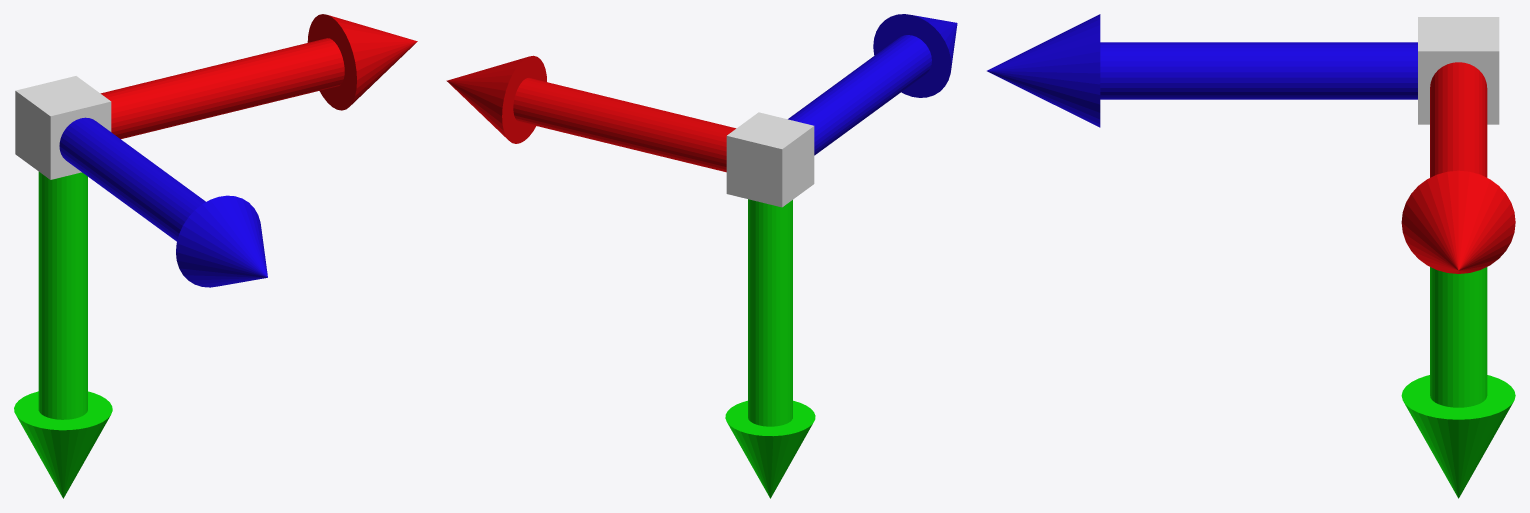
The model's file is gizmo.gltf.
3 renders of one model, left to right at view 1: azimuth 30°, elevation 25°; view 2: azimuth 150°, elevation 25°; view 3: azimuth 270°, elevation 25°, orthographic. The views are drawn at different scales.
Visible parts, largest first — view 1: y, x, z, Cube; view 2: y, x, z, Cube; view 3: z, x, y, Cube.
Part boxes in pixels (x1,y1,x2,y2): y: [14, 172, 112, 498]; x: [100, 14, 417, 138]; z: [59, 117, 267, 287]; Cube: [15, 76, 111, 179]; y: [725, 199, 815, 498]; x: [446, 55, 736, 172]; z: [788, 14, 957, 155]; Cube: [726, 112, 814, 207]; z: [987, 14, 1417, 127]; x: [1401, 62, 1515, 273]; y: [1401, 267, 1515, 498]; Cube: [1418, 17, 1499, 124].
Size of the model in its own units: 1.75 by 1.75 by 1.75.
